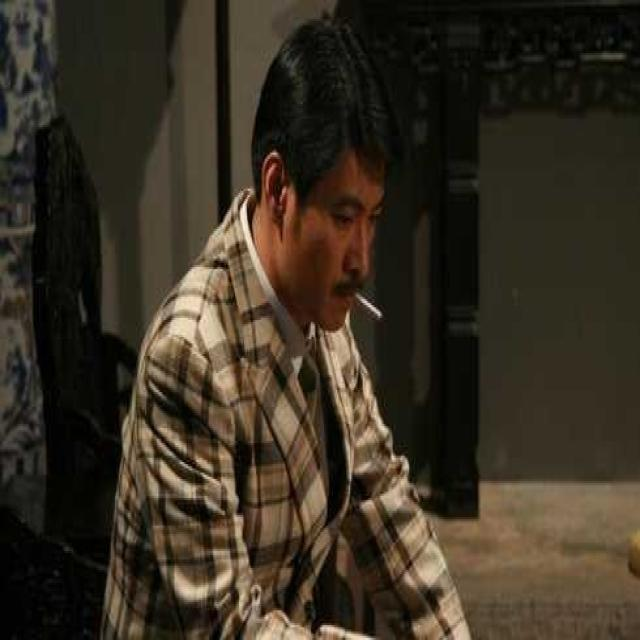Smooking: (355, 277, 389, 334)
